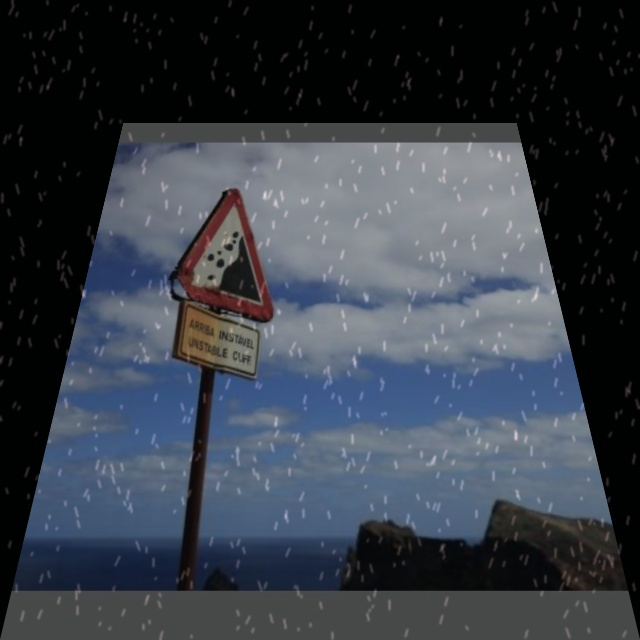Falling_Rocks: (166, 187, 280, 313)
